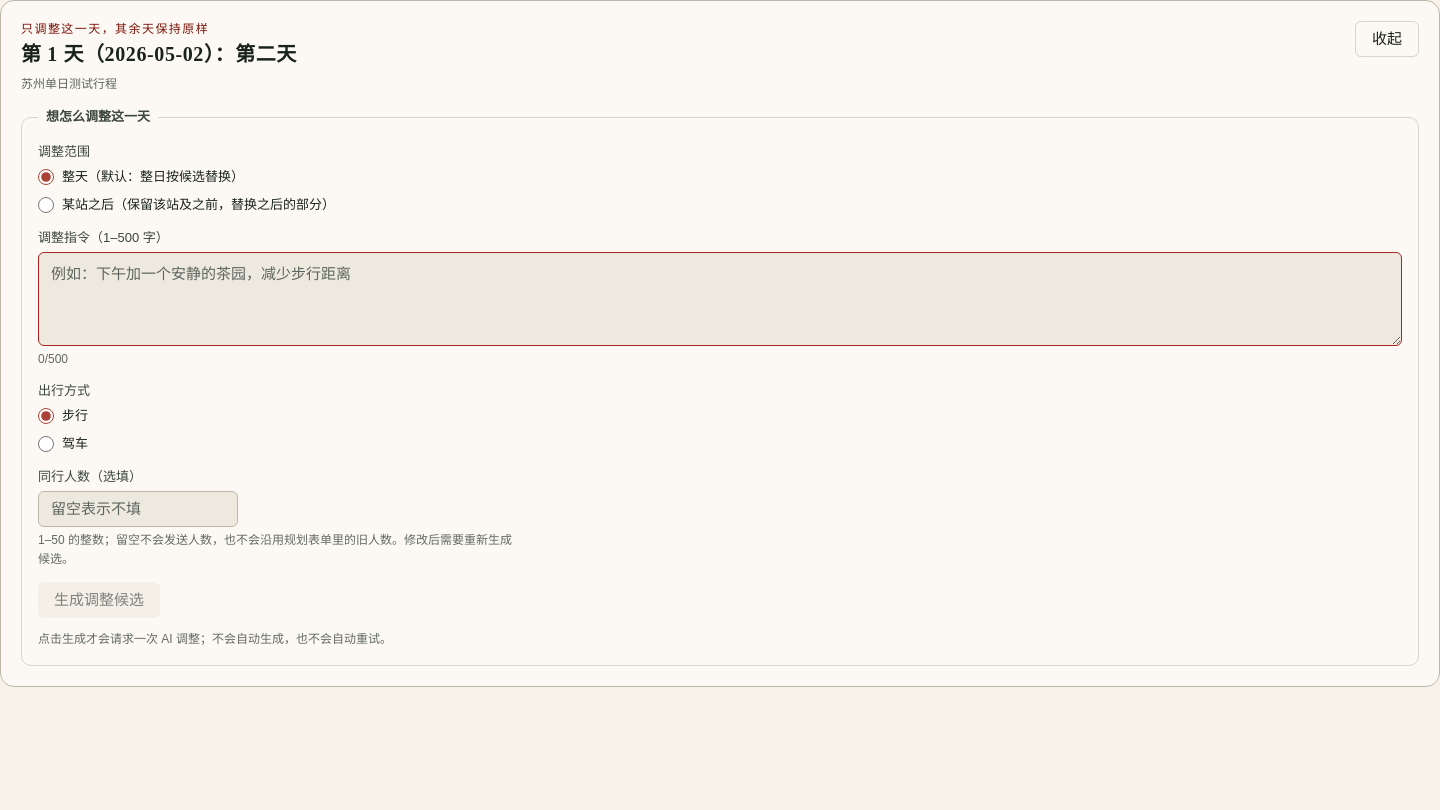
DayReplanPanel 后段模式 › 显式生成才请求一次；预览区分冻结段与 AI 新后段并说明衔接未重算
Click the radio button labelled "某站之后（保留该站及之前，替换之后的部分）". click: click(46, 205)
box: [38,197,54,213]
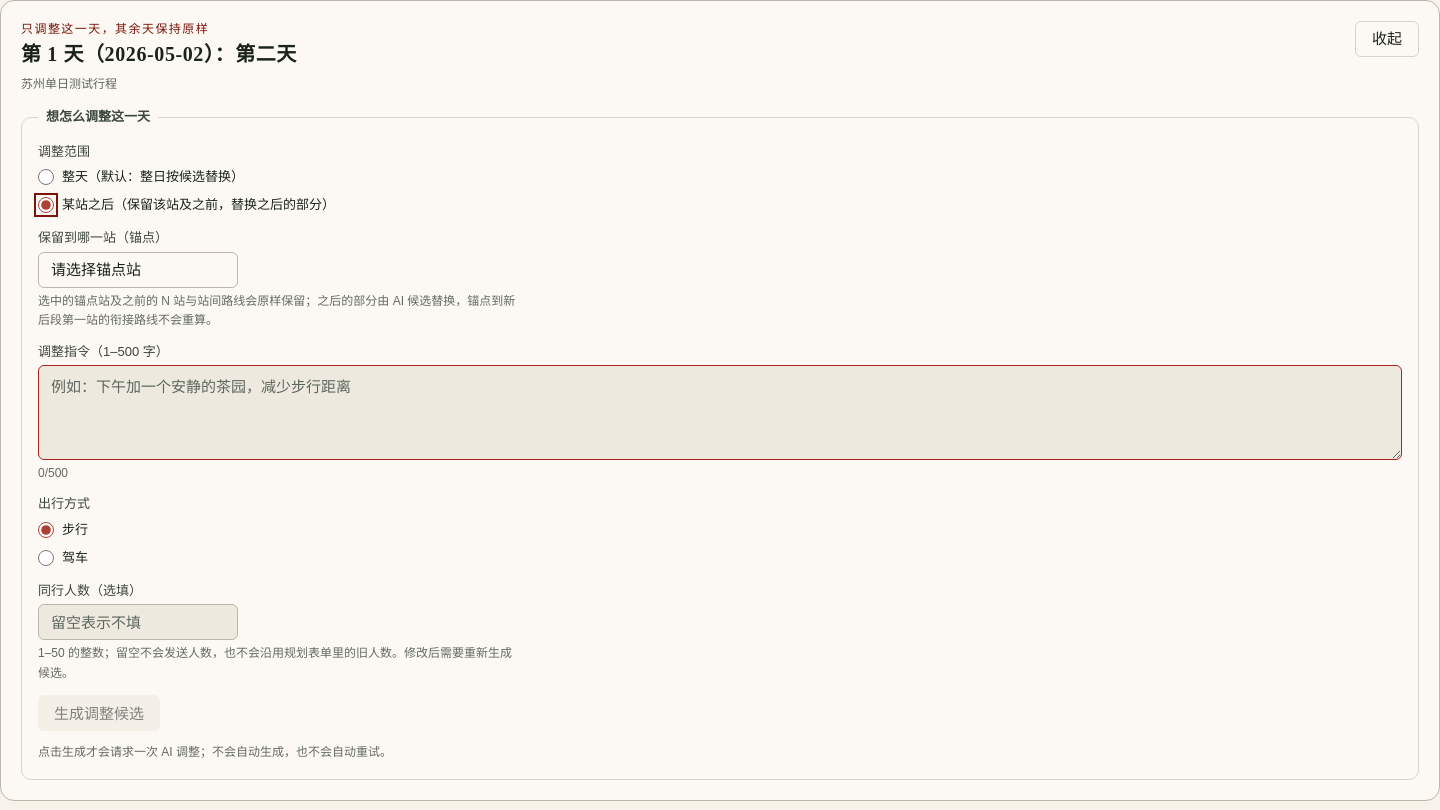
Select "第 2 站：寒山寺（保留第 1–2 站）" in the dropdown labelled "保留到哪一站（锚点）". click: (138, 270)
box: [38,252,238,288]
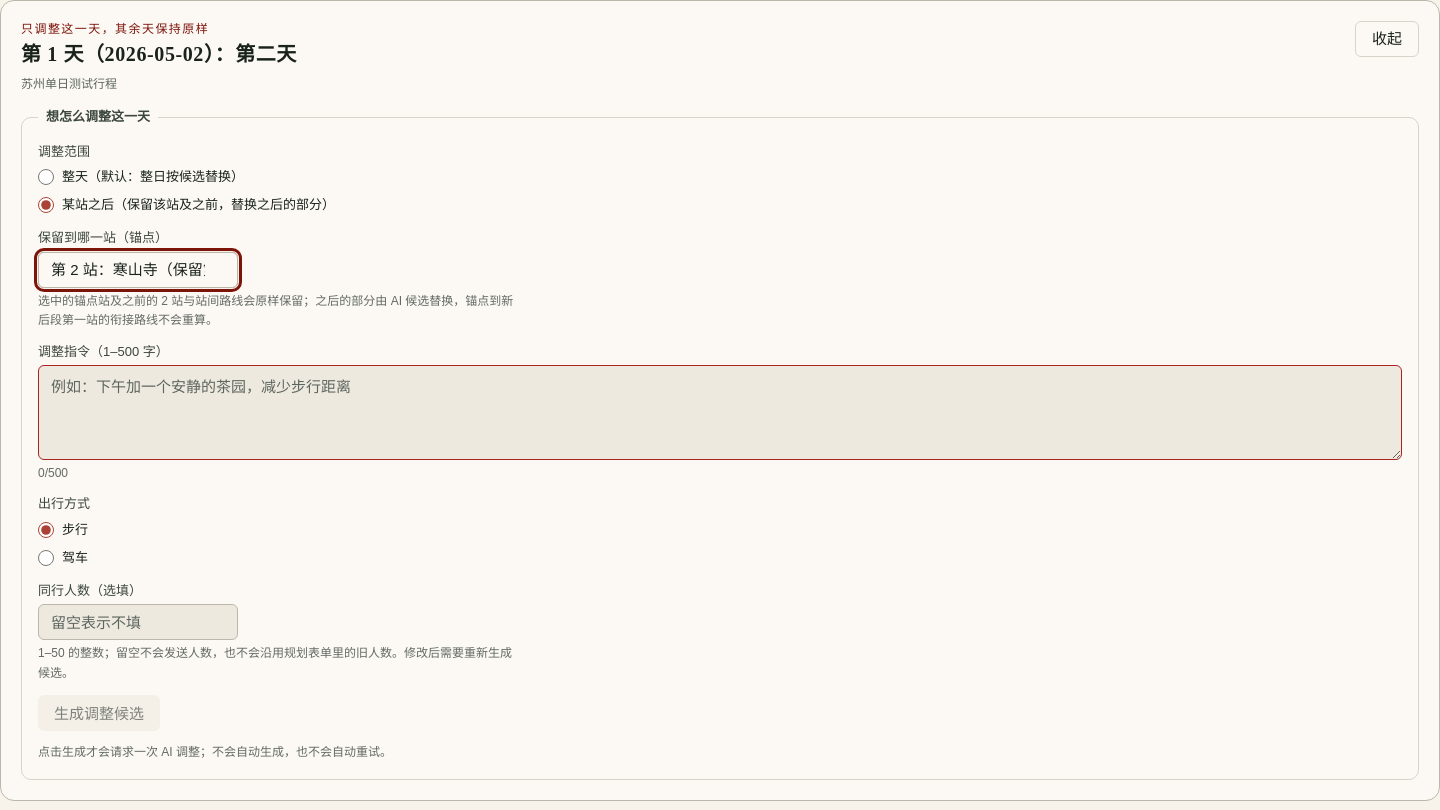
Type "换成安静的安排。" into the text box labelled "调整指令（1–500 字）". click: (720, 413)
box: [38,365,1402,460]
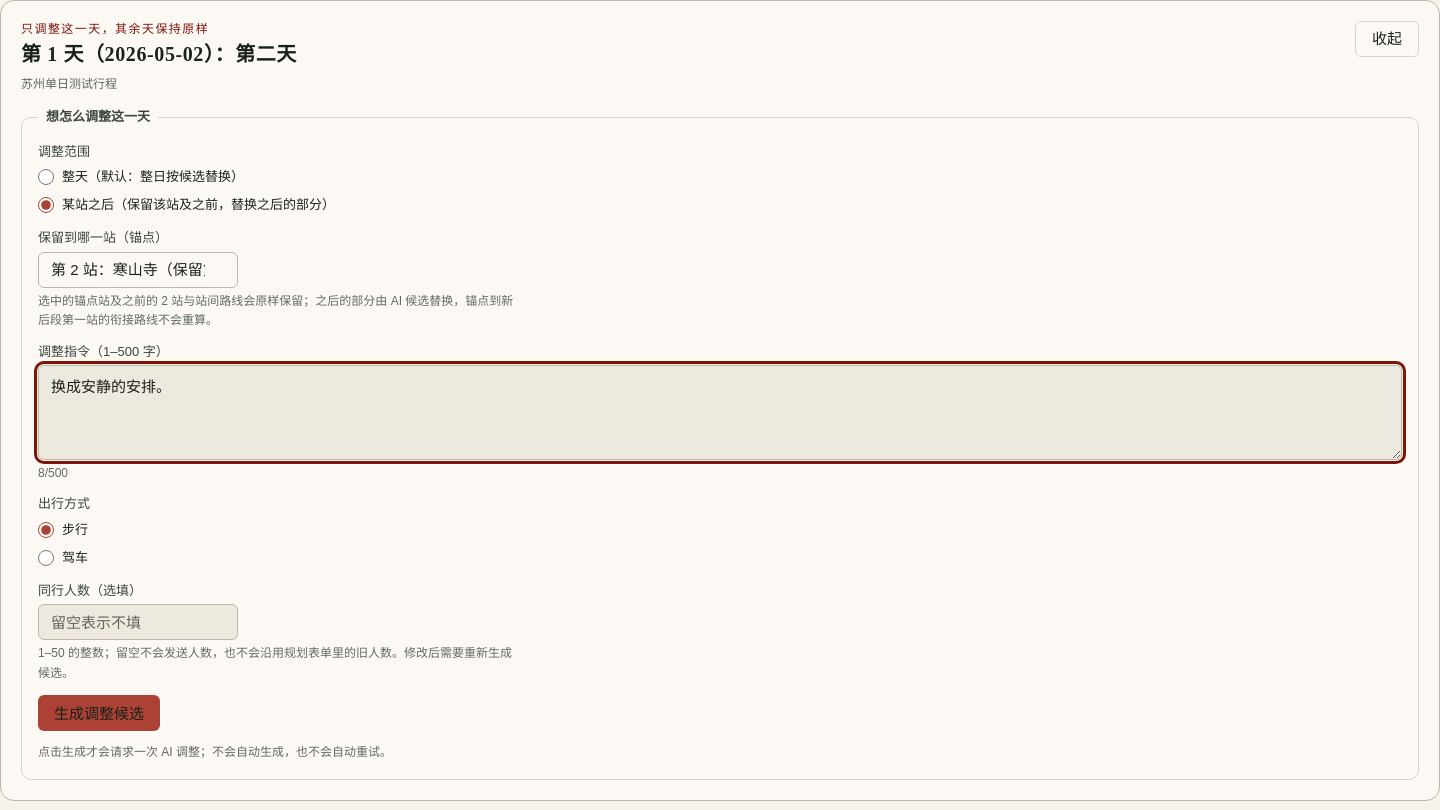
Click the button "生成调整候选". click: click(99, 713)
box: [38,695,160,731]
(page scrolled)
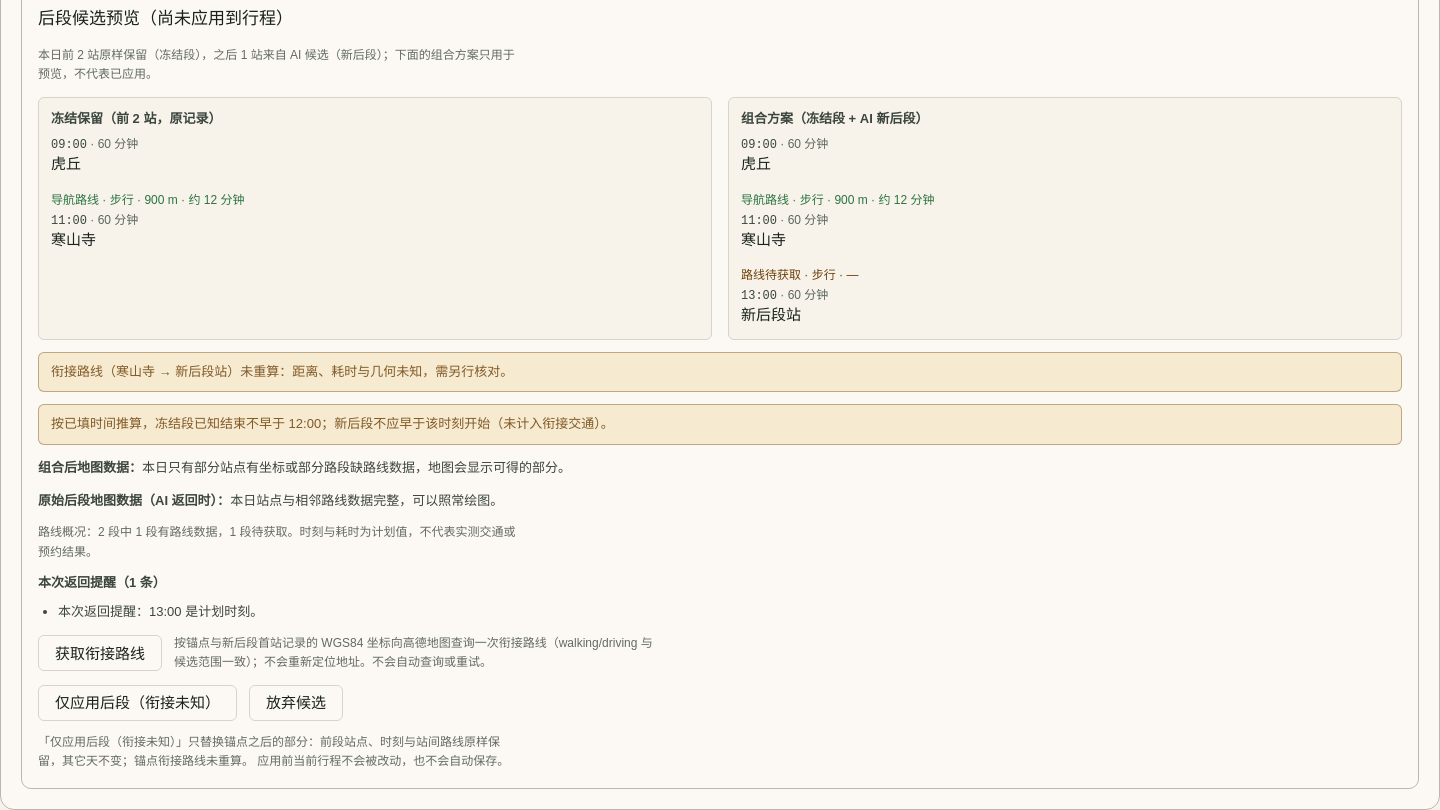
Expected: the heading "后段候选预览（尚未应用到行程）" is shown, [38,9,293,28]
Expected: the heading "冻结保留（前 2 站，原记录）" is shown, [51,111,222,126]
Expected: the heading "组合方案（冻结段 + AI 新后段）" is shown, [741,111,928,126]
